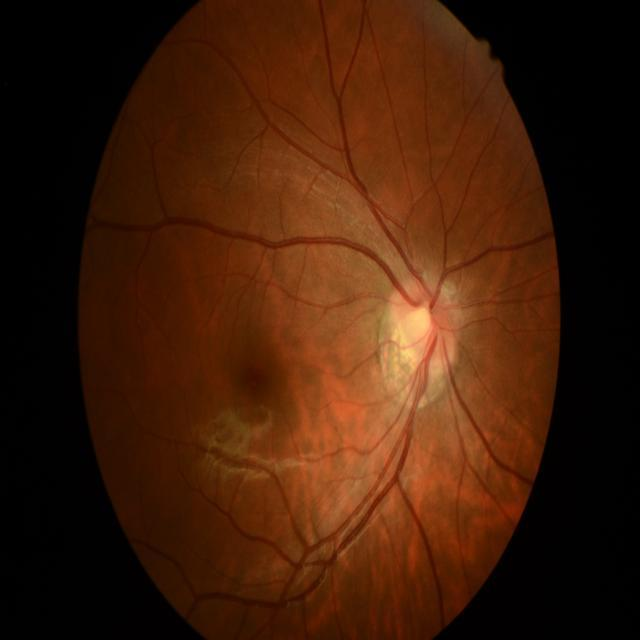cup: (404, 307, 439, 362)
disk: (393, 275, 459, 372)
